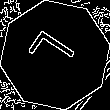L_SE: (26, 28, 84, 82)
